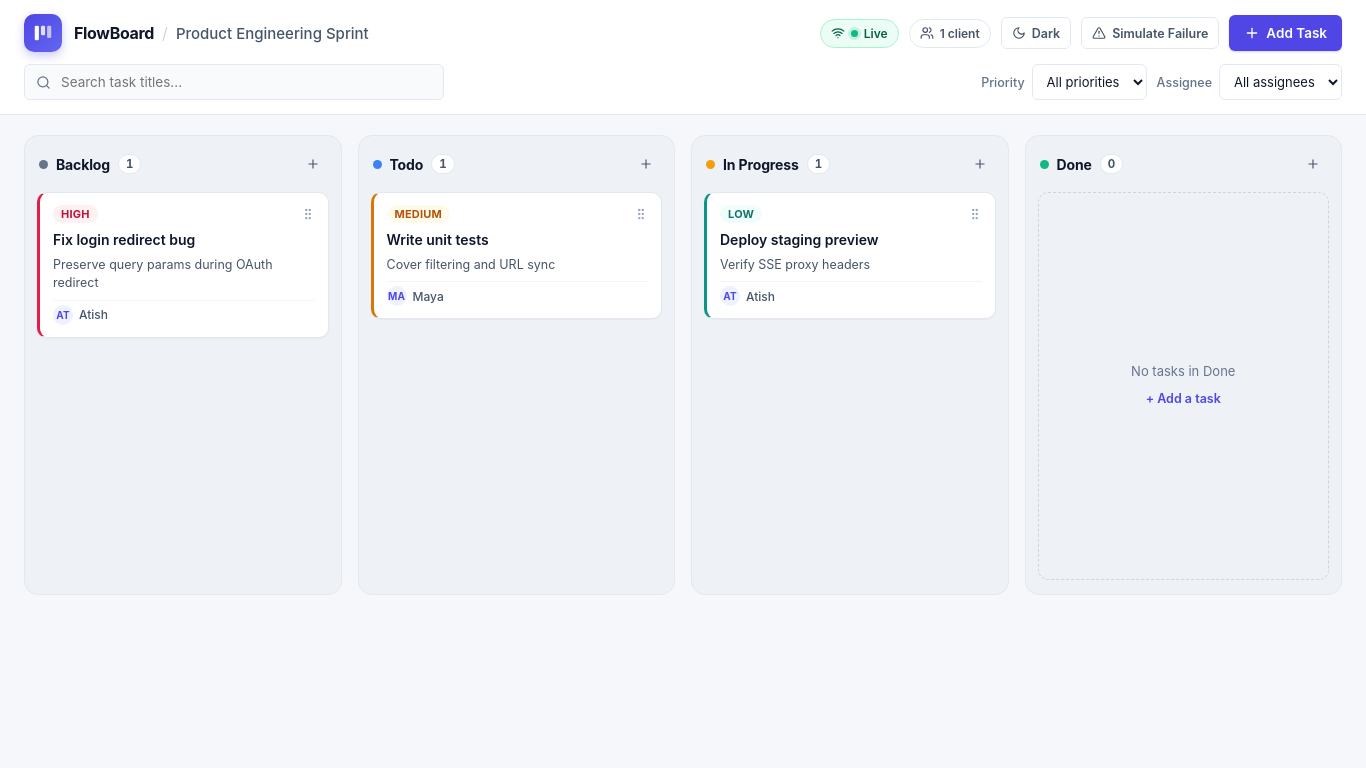
BoardPage UI, URL restoration, concurrency, and rollback › renders four ordered columns, filters simultaneously, and syncs URL
Later steps or results of the test are not shown.
Expected: the heading "Fix login redirect bug" is shown, [53, 231, 195, 248]
Expected: the headings read "Backlog", "Todo", "In Progress", "Done", in this order, [56, 156, 110, 172]; [390, 156, 423, 172]; [723, 156, 799, 172]; [1056, 156, 1092, 172]
Type "login" into the search field labelled "Search task titles" at (234, 82), box [24, 64, 444, 100]
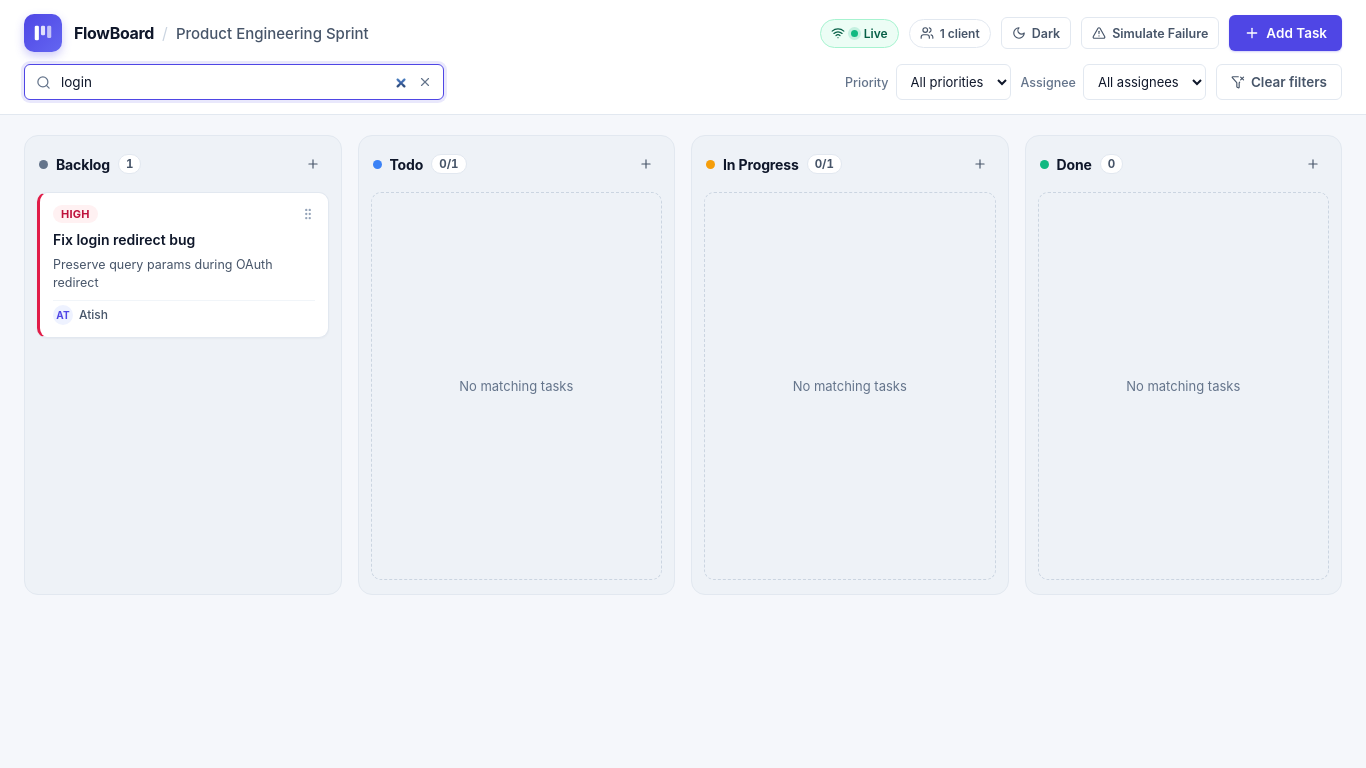
Select "High" in the dropdown named "Filter by priority" at (953, 82), box [896, 64, 1010, 100]
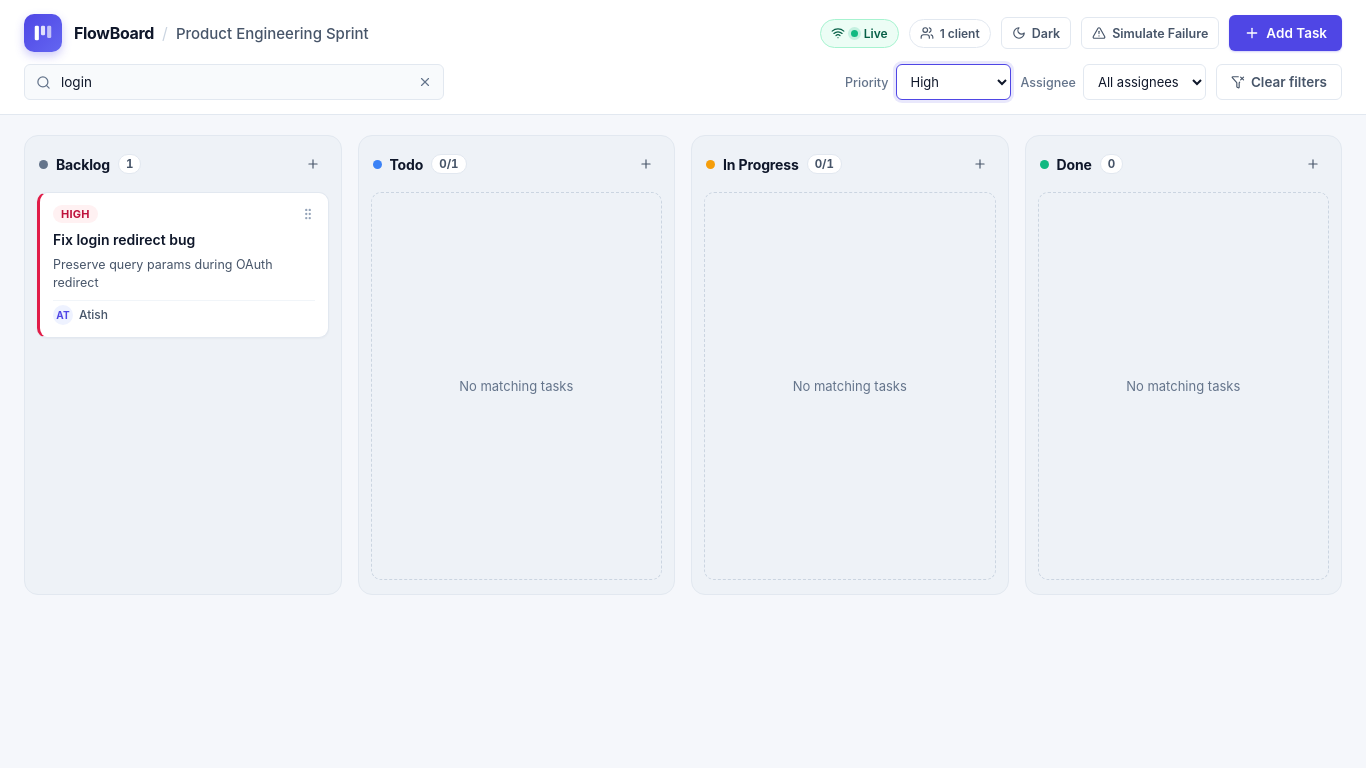
Select "Atish" in the dropdown named "Filter by assignee" at (1144, 82), box [1083, 64, 1206, 100]
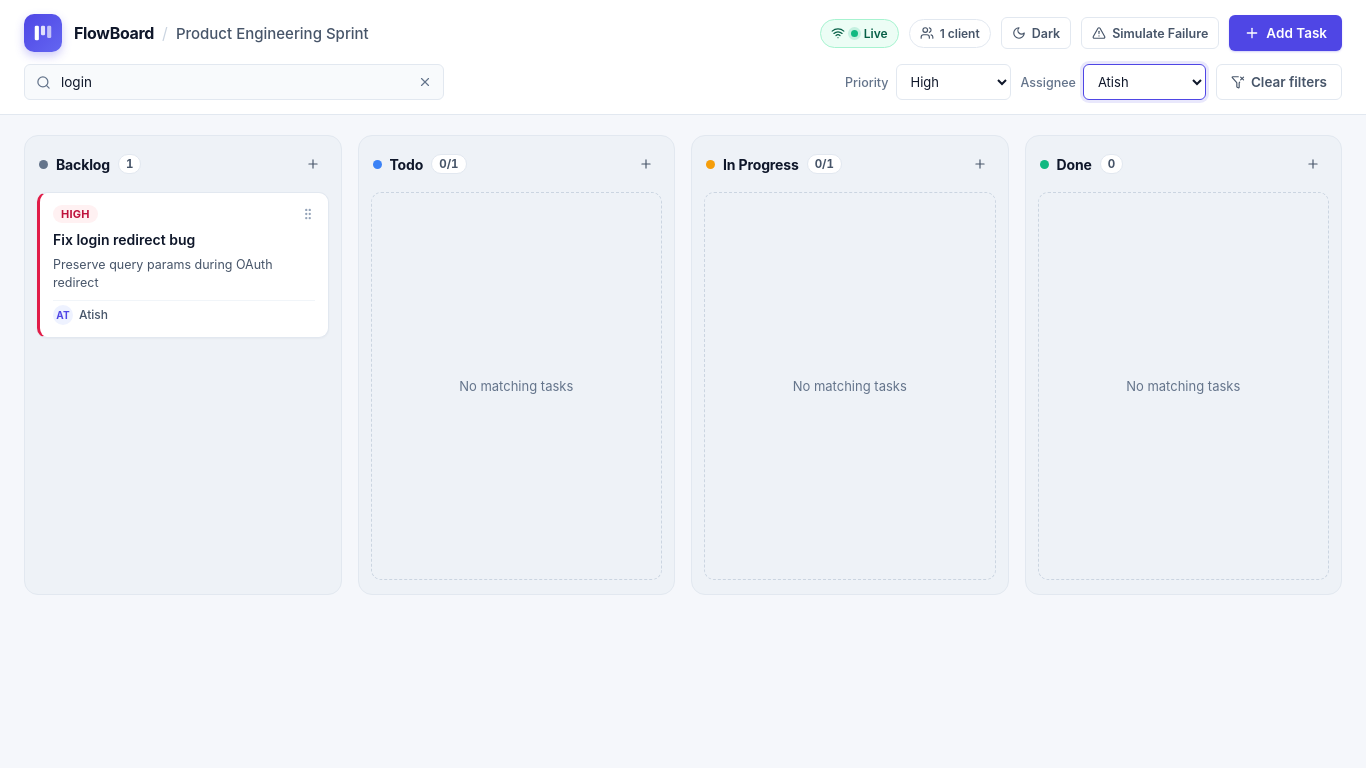
Expected: the heading "Fix login redirect bug" is shown, [53, 231, 195, 248]
Expected: the button "Write unit tests" is not shown
Click the button "Clear filters" at (1279, 82), box [1216, 64, 1342, 100]
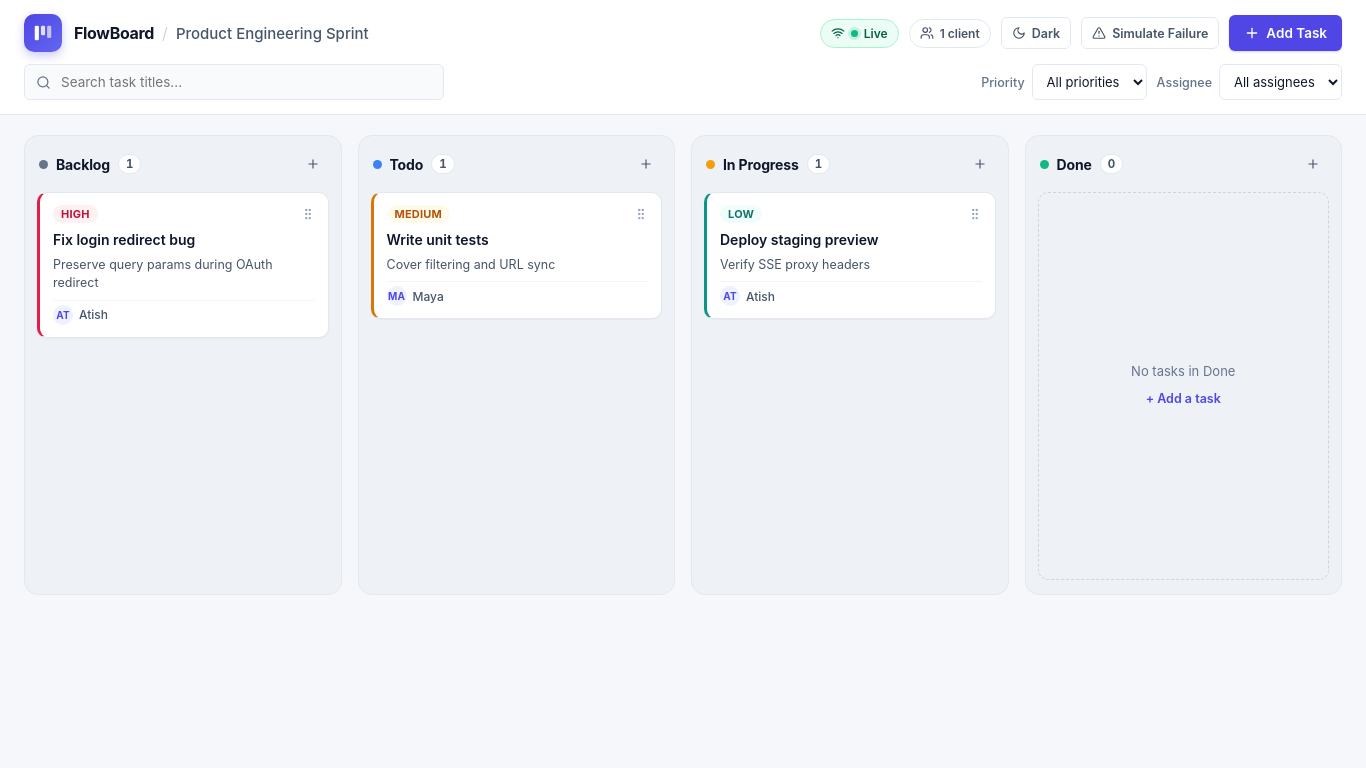
Result: the heading "Write unit tests" is shown at [386, 231, 489, 248]
